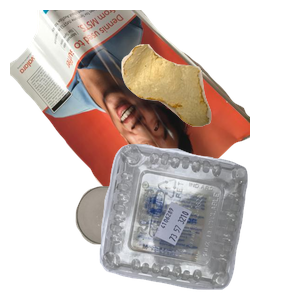glass: (73, 184, 214, 300)
paper: (10, 10, 250, 190)
plastic: (97, 141, 300, 300)
trash: (119, 42, 300, 161)
